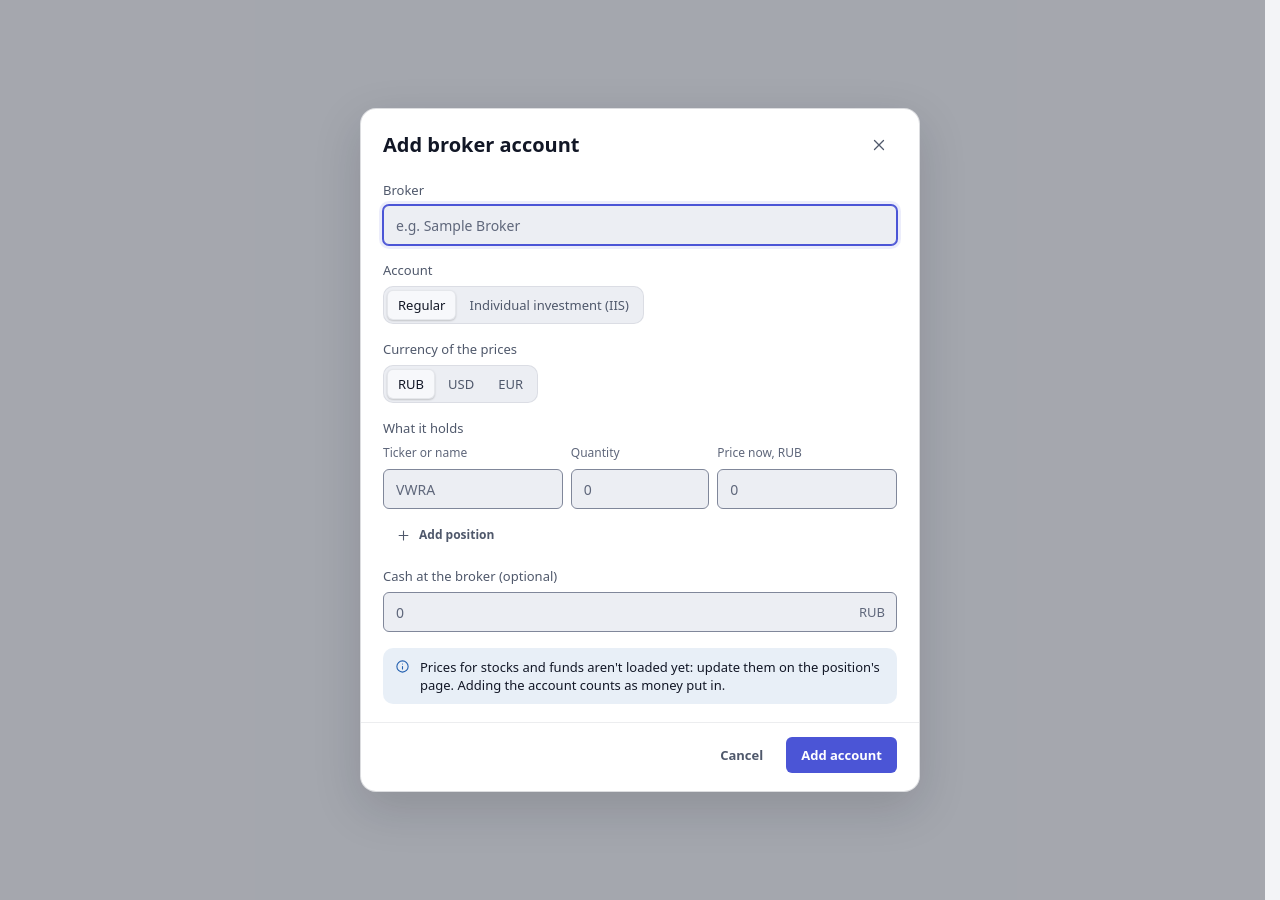
Test: BROKER-ADD Add broker account › saves nothing with a stale rate, or while the rates cannot be read
This screenshot has width=1280, height=900.
Click the radio button labelled "USD" at (461, 384), box top-left (448, 375), bottom-right (474, 393)
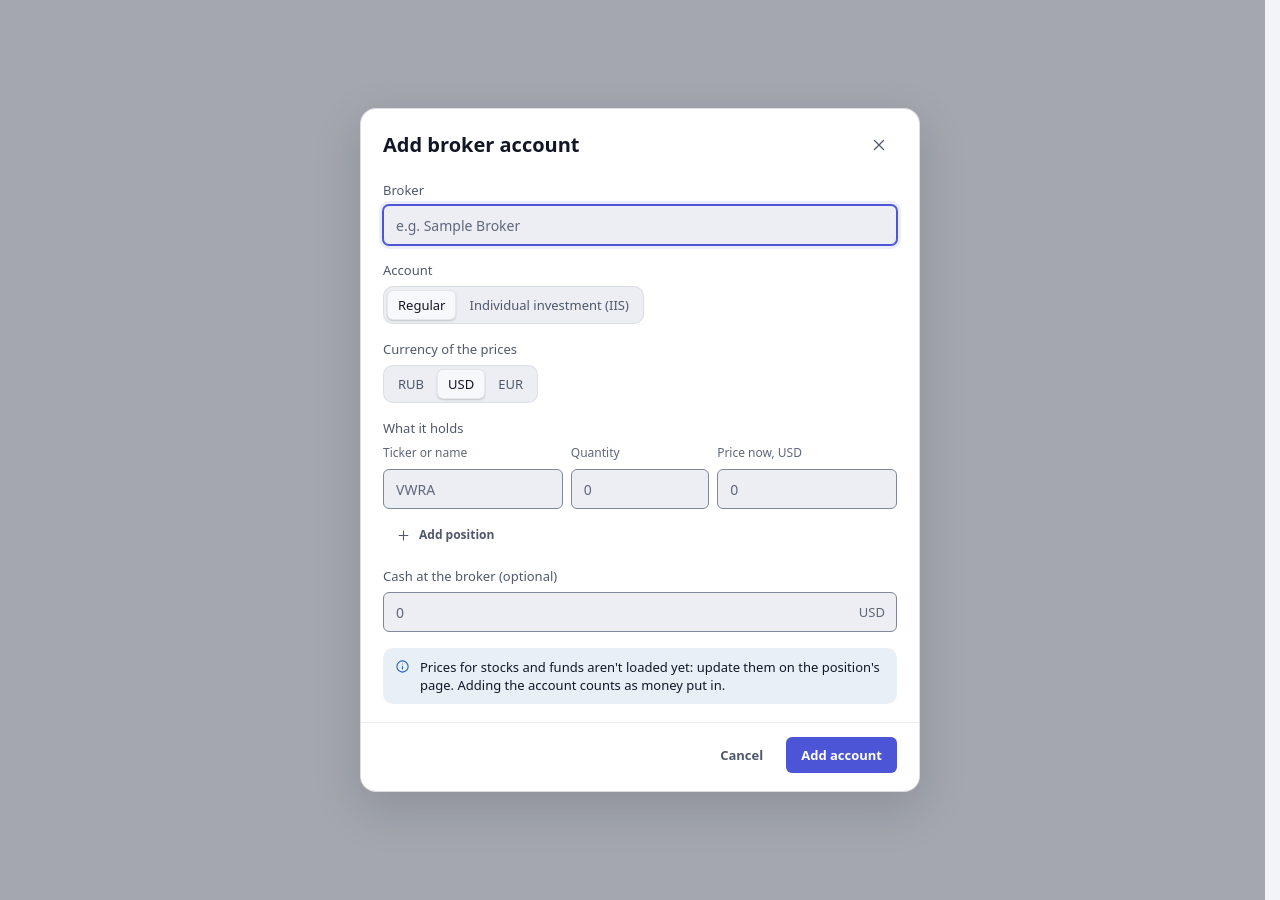
Click the radio button labelled "EUR" at (511, 384), box top-left (498, 375), bottom-right (523, 393)
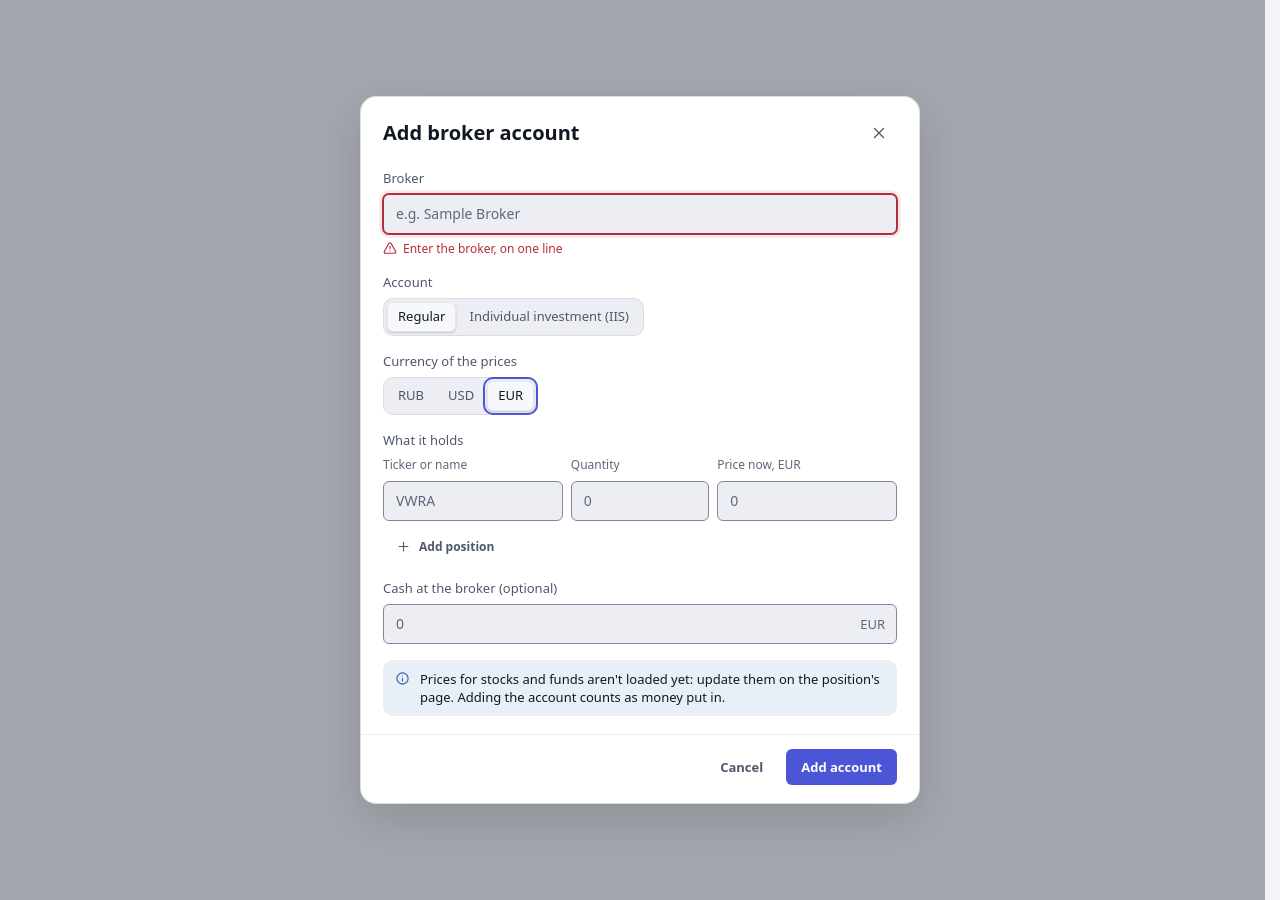
Type "Sample Broker" into the field labelled "Broker" at (640, 214), box top-left (383, 194), bottom-right (897, 234)
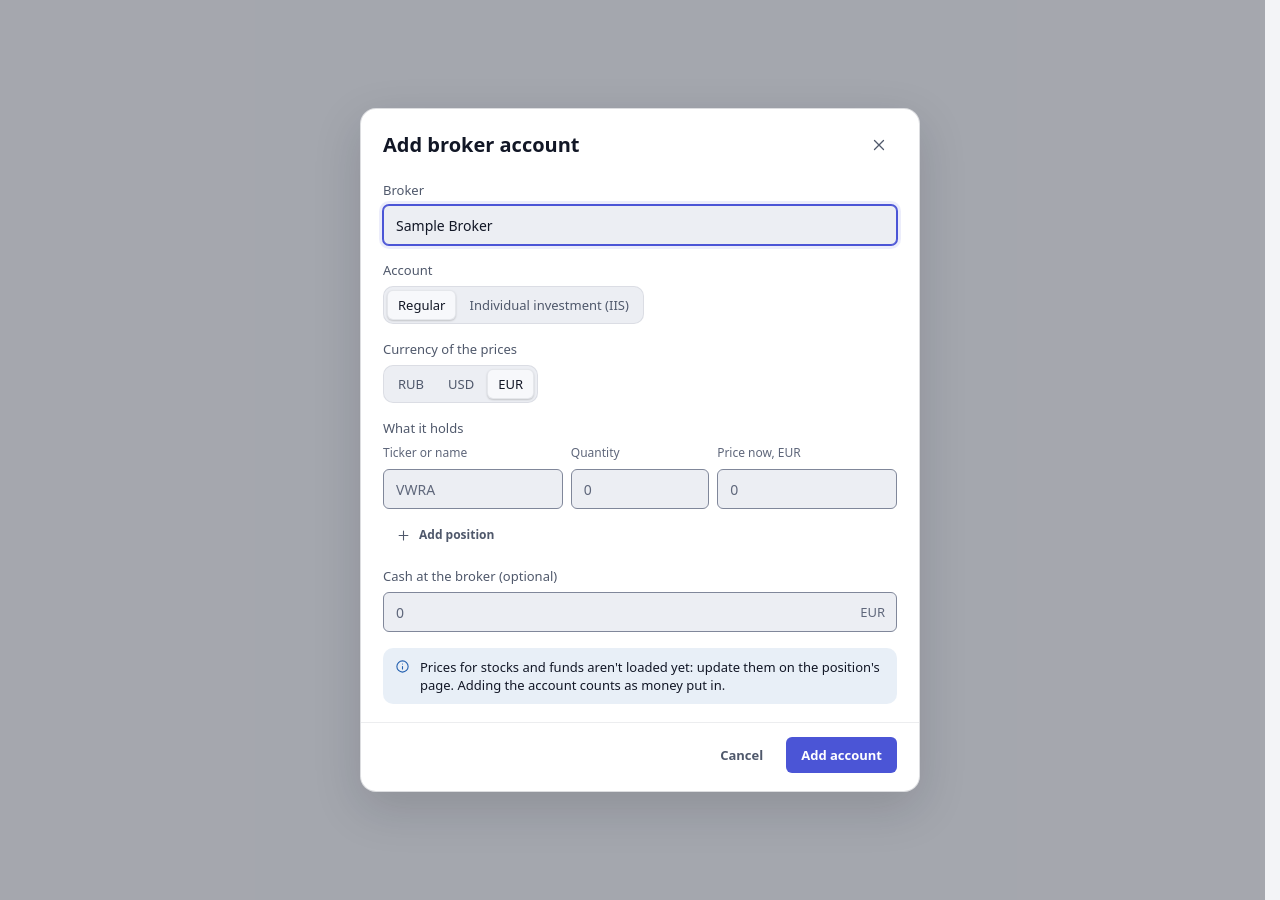
Type "250" into the field labelled "Cash at the broker (optional)" at (640, 612), box top-left (383, 592), bottom-right (897, 632)
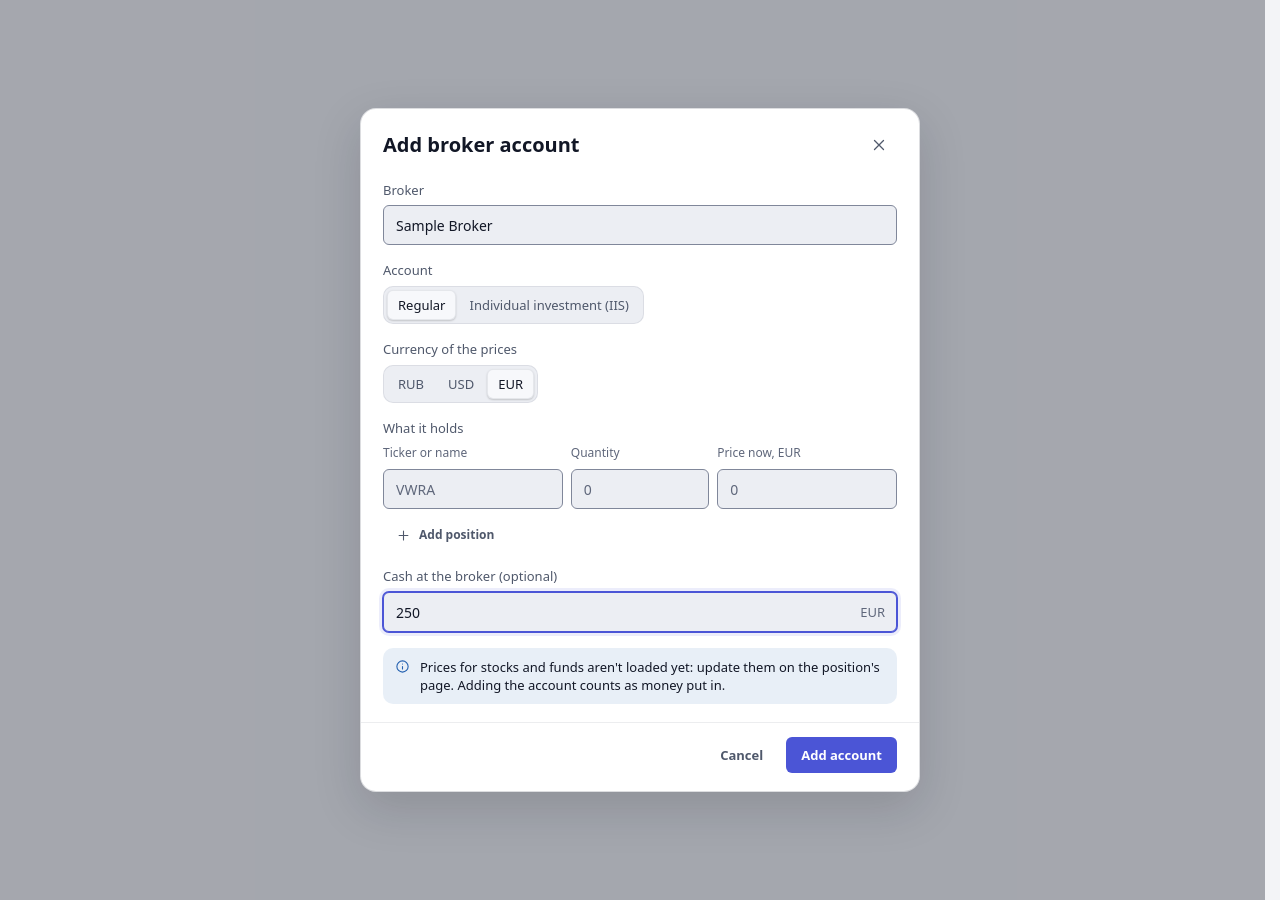
Click the button "Add account" at (842, 756), box top-left (786, 738), bottom-right (897, 774)
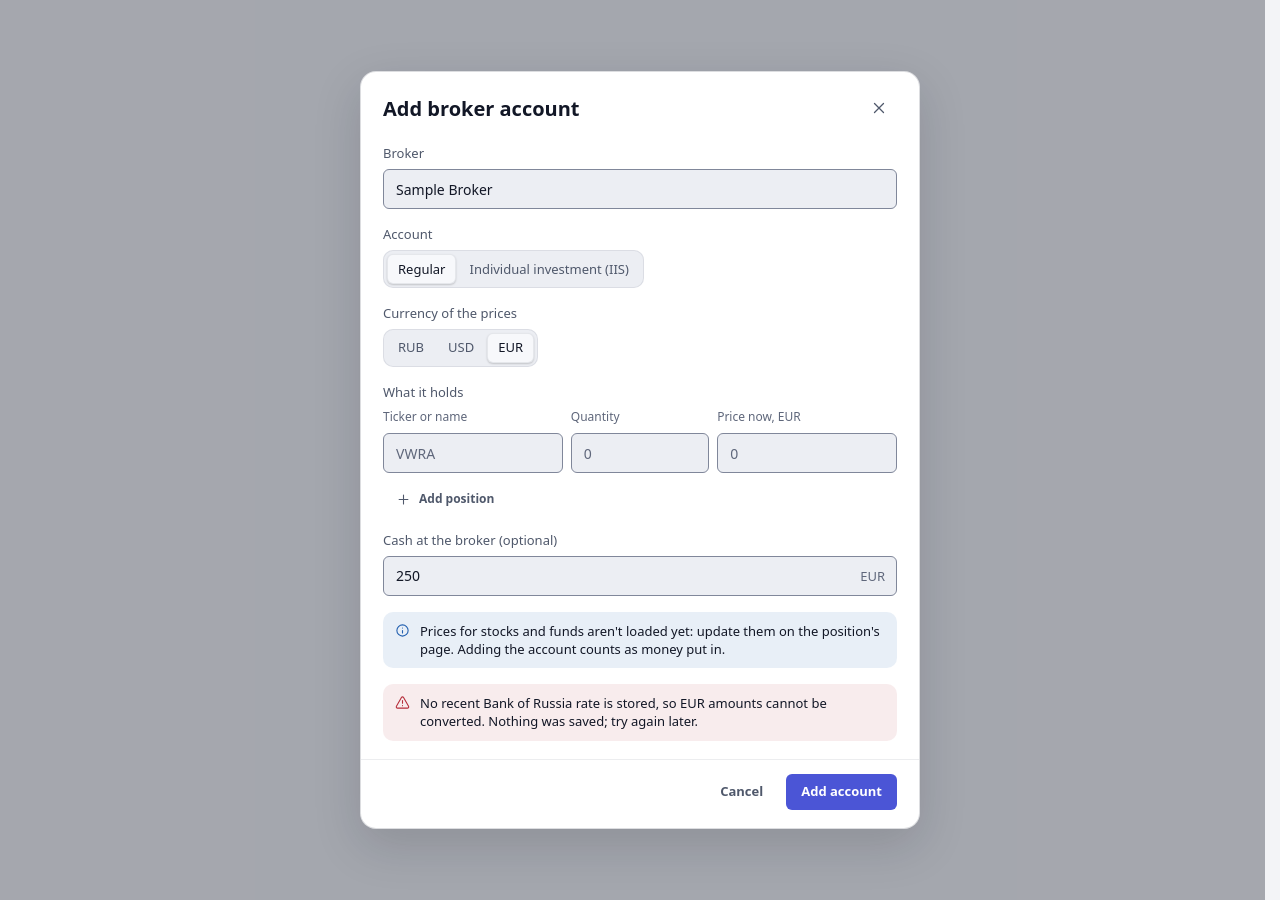
Now the message shows "No recent Bank of Russia rate is stored, so EUR amounts cannot be converted.", box top-left (420, 694), bottom-right (827, 730)
Click the button "Add account" at (842, 792), box top-left (786, 774), bottom-right (897, 810)
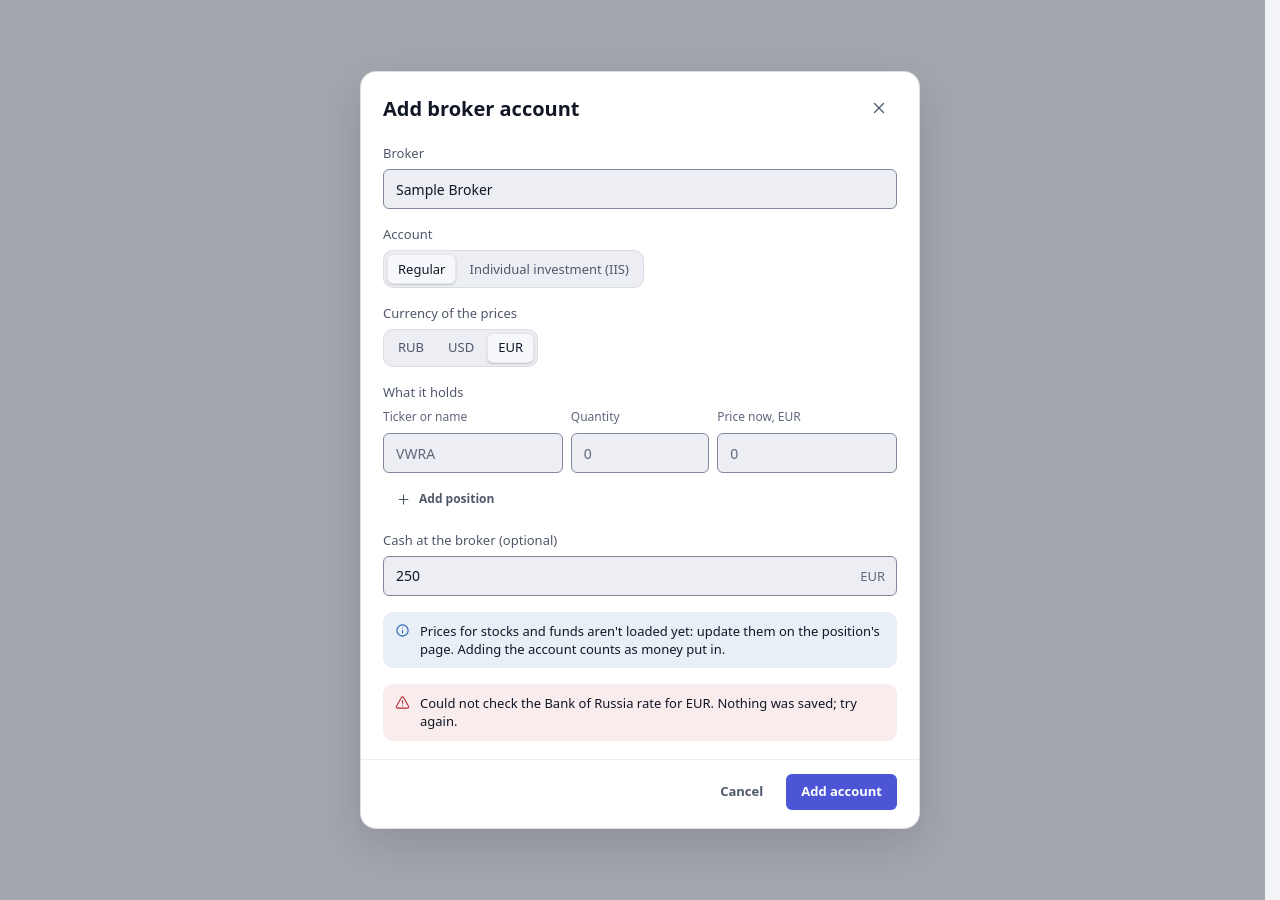
Now the message reads "Could not check the Bank of Russia rate for EUR. Nothing was saved; try again.", box top-left (420, 694), bottom-right (857, 730)
